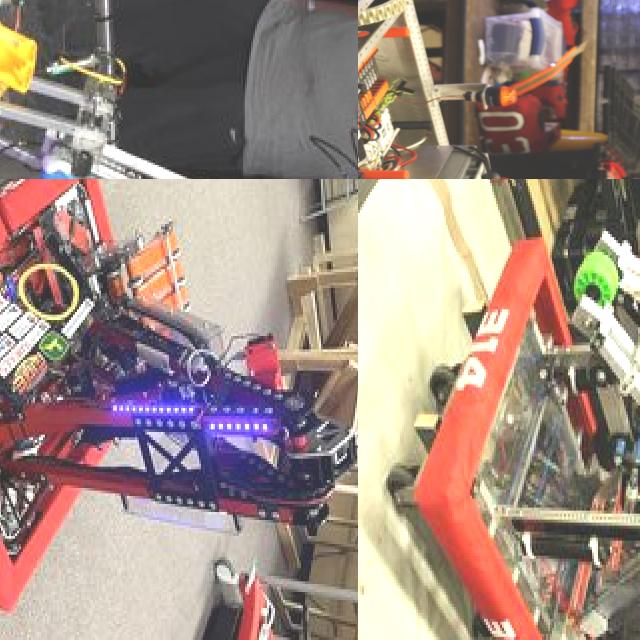FRC-Robots: (0, 179, 358, 637), (358, 179, 640, 640), (0, 0, 358, 179), (358, 0, 563, 179)
